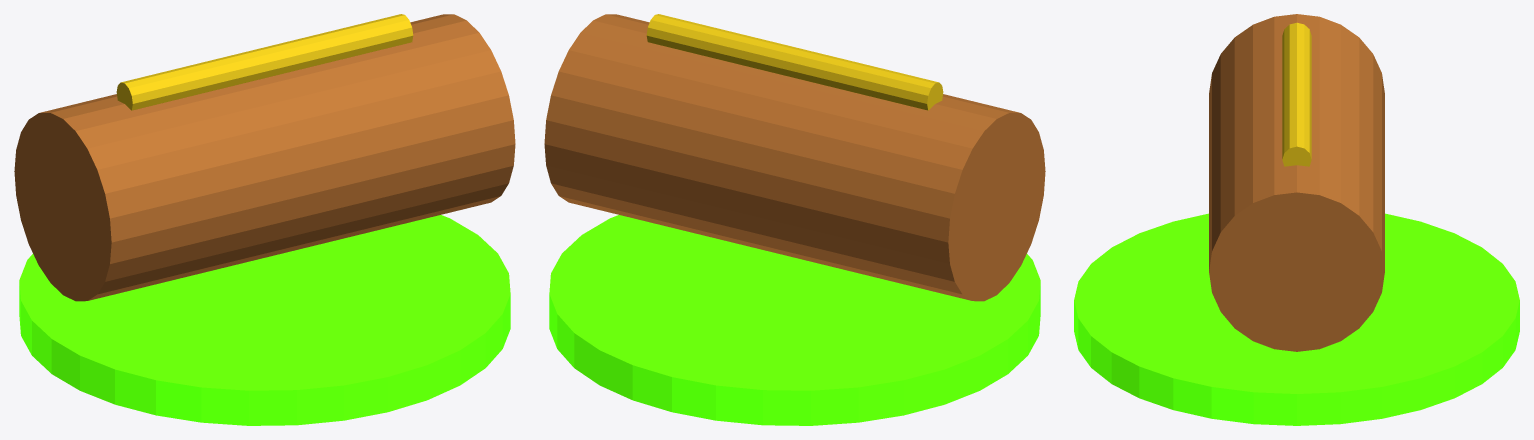
The model's file is food_hot_dog.dae.
The picture shows the model from 3 angles, left to right: view 1: azimuth 30°, elevation 25°; view 2: azimuth 150°, elevation 25°; view 3: azimuth 270°, elevation 25°; orthographic projection. The views are drawn at different scales.
Parts seen in each view (by area): view 1: 01_10_Popular_Food_Hot_Dog_part_01, 01_10_Popular_Food_Hot_Dog_ROOT_base, 01_10_Popular_Food_Hot_Dog_part_03; view 2: 01_10_Popular_Food_Hot_Dog_part_01, 01_10_Popular_Food_Hot_Dog_ROOT_base, 01_10_Popular_Food_Hot_Dog_part_03; view 3: 01_10_Popular_Food_Hot_Dog_ROOT_base, 01_10_Popular_Food_Hot_Dog_part_01, 01_10_Popular_Food_Hot_Dog_part_03.
Boxes of the visible parts, <box> form: 01_10_Popular_Food_Hot_Dog_part_01: <box>14,14,515,301</box>; 01_10_Popular_Food_Hot_Dog_ROOT_base: <box>19,215,510,425</box>; 01_10_Popular_Food_Hot_Dog_part_03: <box>116,14,413,110</box>; 01_10_Popular_Food_Hot_Dog_part_01: <box>544,14,1045,301</box>; 01_10_Popular_Food_Hot_Dog_ROOT_base: <box>549,215,1040,425</box>; 01_10_Popular_Food_Hot_Dog_part_03: <box>646,14,943,110</box>; 01_10_Popular_Food_Hot_Dog_ROOT_base: <box>1074,213,1519,425</box>; 01_10_Popular_Food_Hot_Dog_part_01: <box>1209,14,1384,351</box>; 01_10_Popular_Food_Hot_Dog_part_03: <box>1282,22,1311,166</box>.
Bounding box in the file's own units: 0.76 × 0.465 × 0.76.
